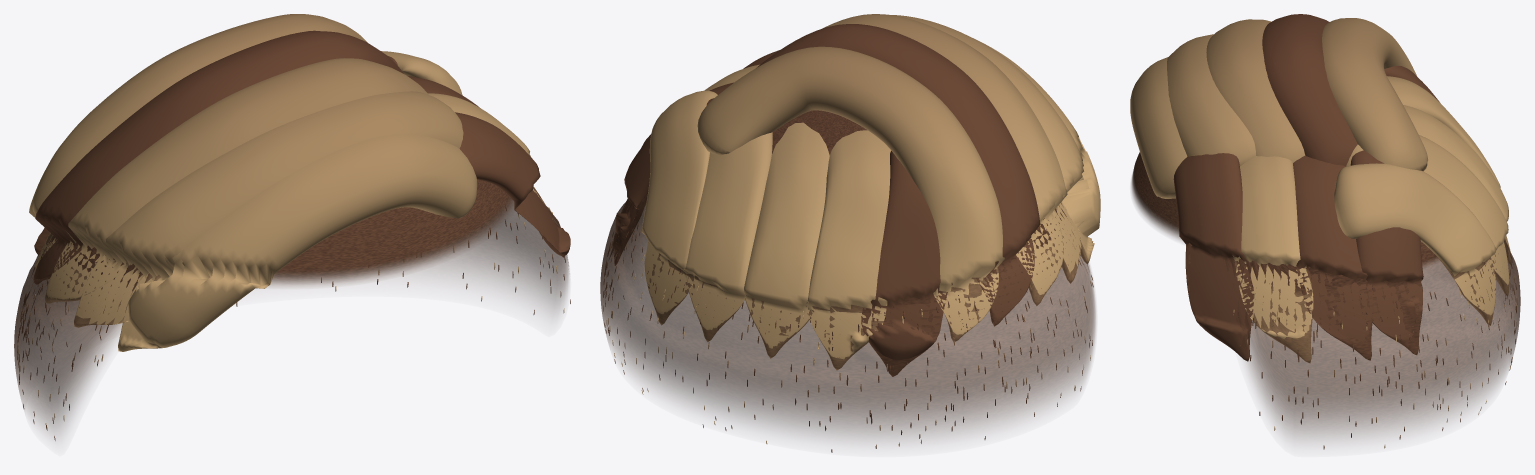
File: Highlights-66d3ab461d2b251-hair.glb
3 views of the same model, side by side, from view 1: azimuth 30°, elevation 25°; view 2: azimuth 150°, elevation 25°; view 3: azimuth 270°, elevation 25° (orthographic). The views are drawn at different scales.
Parts seen in each view (by area): view 1: 226 hair / Hair / main251.001, 226 hair / Hair / clipped grain251.001, 226 hair / Hair / close cut strokes251.001; view 2: 226 hair / Hair / main251.001, 226 hair / Hair / clipped grain251.001, 226 hair / Hair / close cut strokes251.001; view 3: 226 hair / Hair / main251.001, 226 hair / Hair / clipped grain251.001, 226 hair / Hair / close cut strokes251.001.
Boxes of the visible parts, x1,y1,x2,y2 form: 226 hair / Hair / main251.001: [29, 14, 570, 351]; 226 hair / Hair / clipped grain251.001: [14, 179, 569, 436]; 226 hair / Hair / close cut strokes251.001: [17, 208, 570, 440]; 226 hair / Hair / main251.001: [614, 14, 1100, 376]; 226 hair / Hair / clipped grain251.001: [600, 110, 1095, 441]; 226 hair / Hair / close cut strokes251.001: [603, 207, 1093, 452]; 226 hair / Hair / main251.001: [1130, 14, 1511, 362]; 226 hair / Hair / clipped grain251.001: [1131, 152, 1520, 440]; 226 hair / Hair / close cut strokes251.001: [1233, 241, 1516, 449].
Bounding box in the file's own units: 0.9812 × 0.6928 × 0.752.
4 materials, 1 textured.
